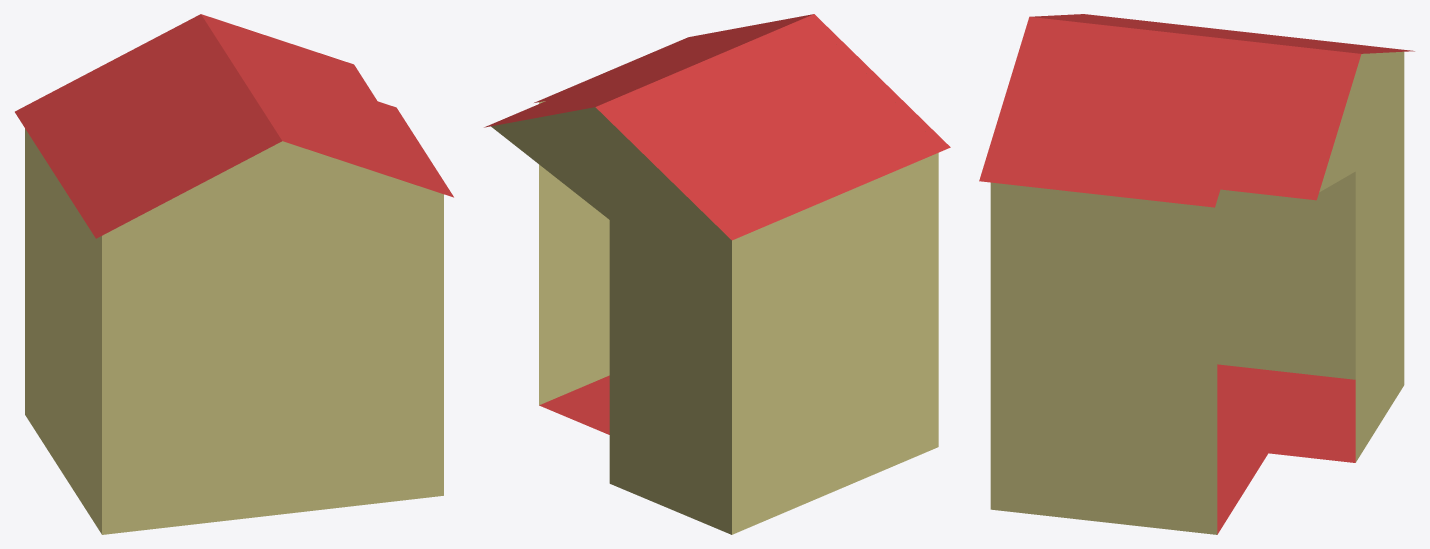
3 views of the same model, side by side, from view 1: azimuth 30°, elevation 25°; view 2: azimuth 150°, elevation 25°; view 3: azimuth 270°, elevation 25° (orthographic). The views are drawn at different scales.
Size of the model in its own units: 12.12 by 11.44 by 12.01.
